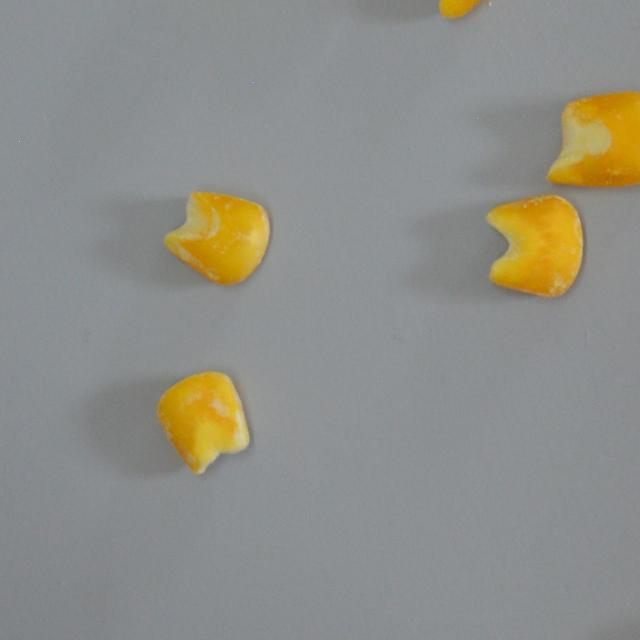no_canjicado: (544, 90, 640, 186), (394, 0, 518, 20)
pelicula: (164, 188, 269, 288), (486, 193, 585, 296), (154, 370, 250, 474)
